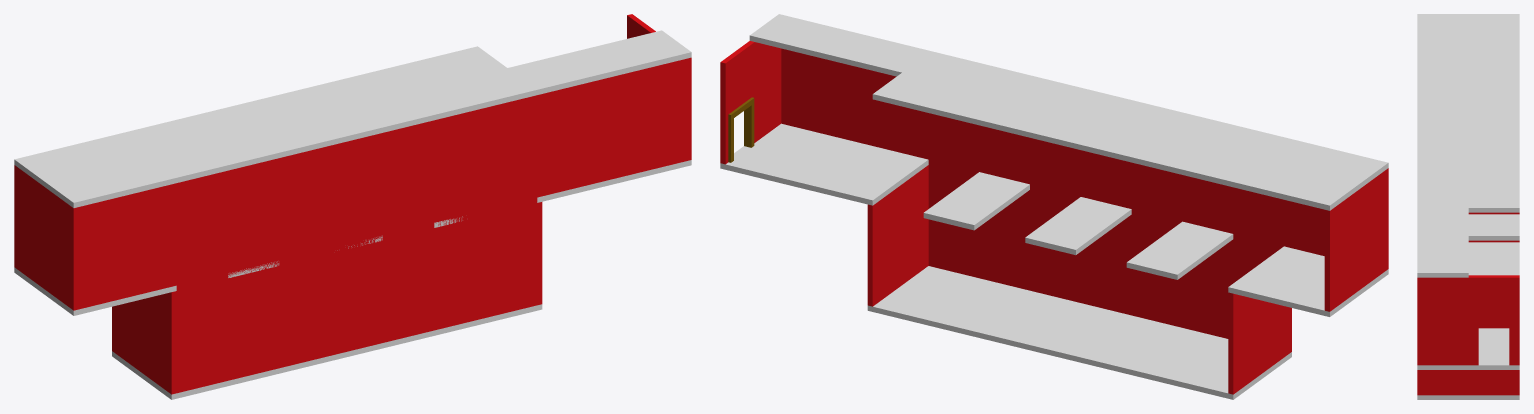
The model's file is Stairs_15_01.fbx.
3 views of the same model, side by side, from view 1: azimuth 30°, elevation 25°; view 2: azimuth 150°, elevation 25°; view 3: azimuth 270°, elevation 25° (orthographic). The views are drawn at different scales.
Parts seen in each view (by area): view 1: Stairs_15_01; view 2: Stairs_15_01; view 3: Stairs_15_01.
Part boxes in pixels (left/top/right/bottom): Stairs_15_01: left=14, top=14, right=691, bottom=399; Stairs_15_01: left=720, top=14, right=1388, bottom=399; Stairs_15_01: left=1417, top=14, right=1519, bottom=399.
Bounding box in the file's own units: 1200 × 410 × 200.
